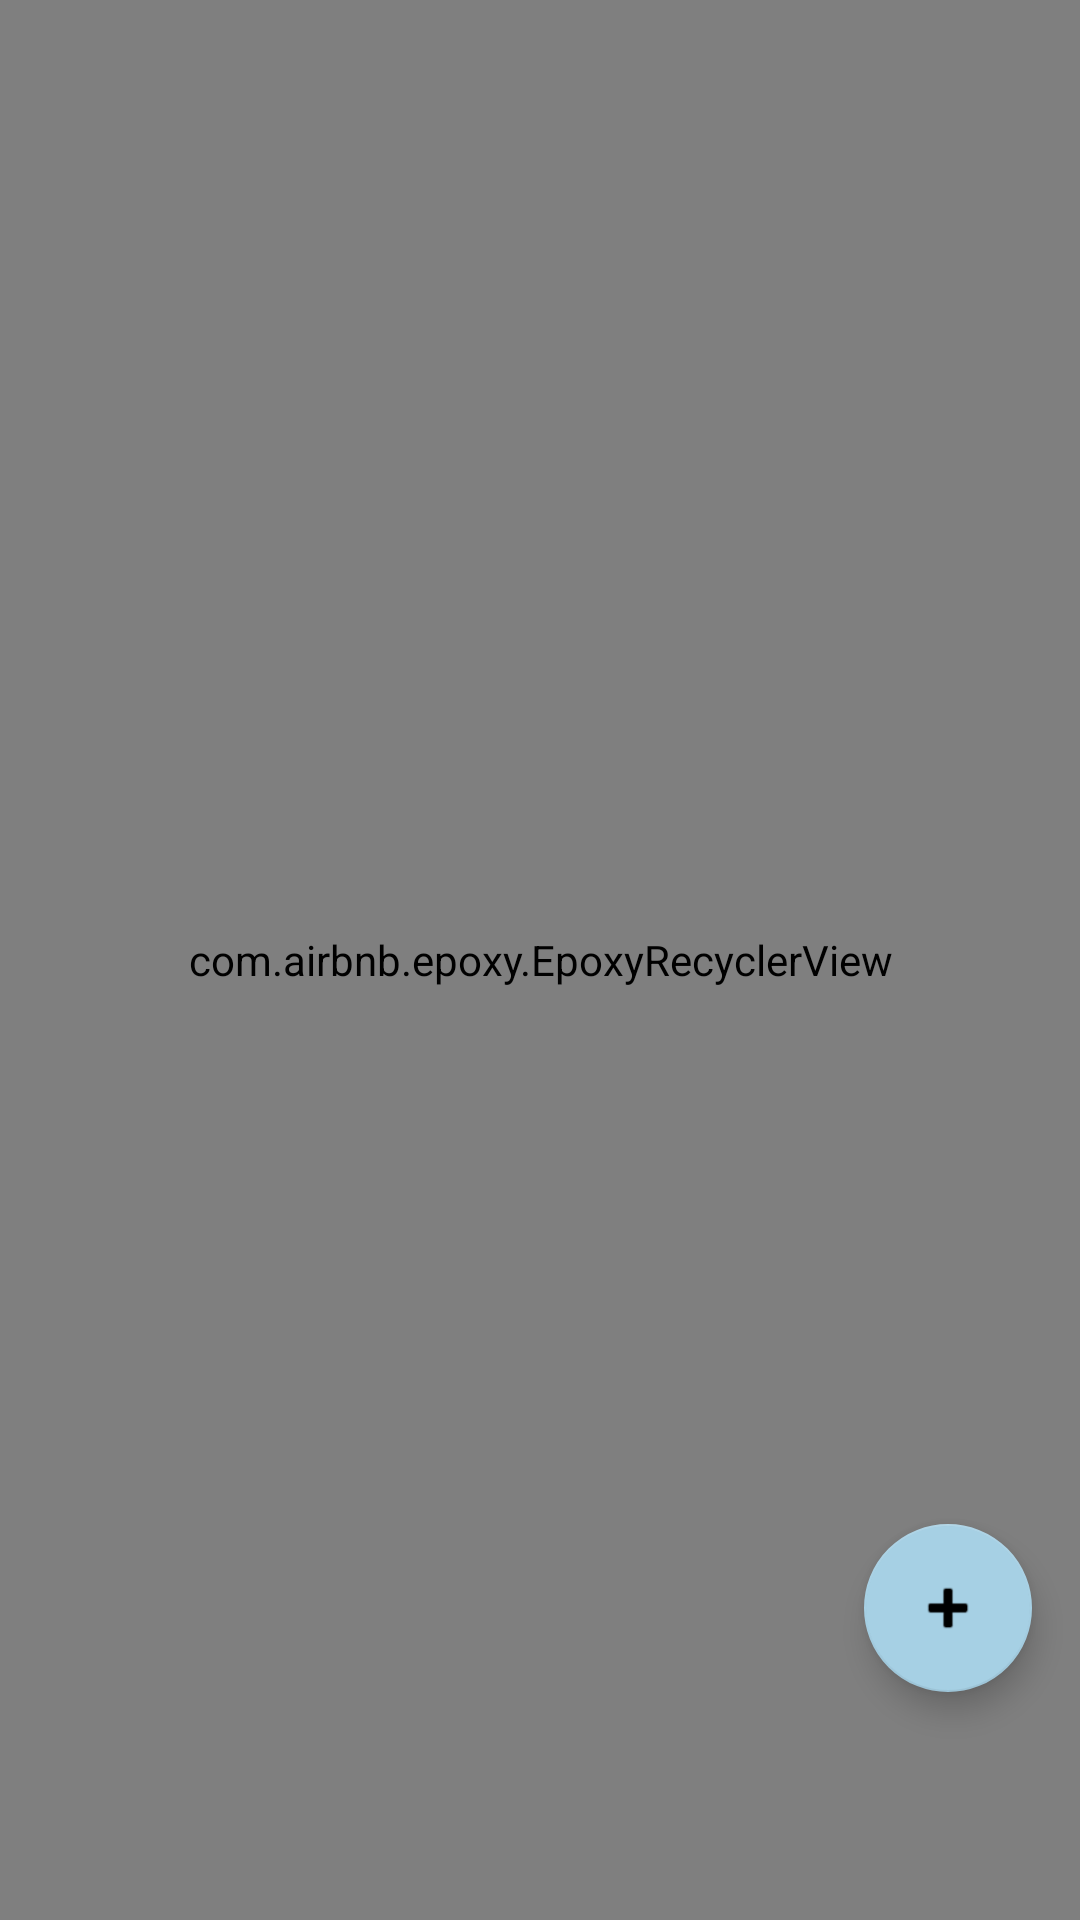

Where icons sit on this 1080w x 1920h app screen, as bbox=[x1, y1, x2, y2]:
Przycisk: bbox=[864, 1524, 1032, 1692]
